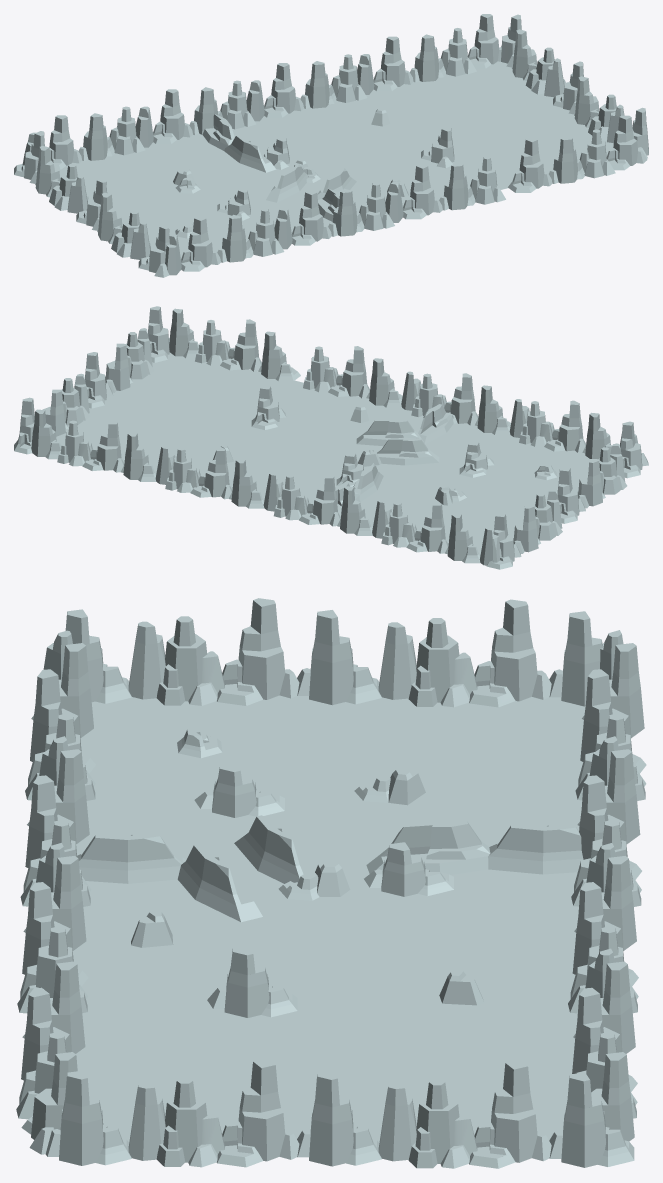
Rendered from Map_001_optimized.glb.
3 renders of one model, top to bottom at view 1: azimuth 30°, elevation 25°; view 2: azimuth 150°, elevation 25°; view 3: azimuth 270°, elevation 25°, orthographic. The views are drawn at different scales.
Parts seen in each view (by area): view 1: stone, Ground; view 2: stone, Ground; view 3: Ground, stone.
Boxes of the visible parts, left/top/right/bottom form: stone: left=14, top=14, right=648, bottom=277; Ground: left=59, top=61, right=613, bottom=259; stone: left=14, top=306, right=648, bottom=569; Ground: left=56, top=352, right=589, bottom=550; Ground: left=72, top=695, right=585, bottom=1156; stone: left=16, top=598, right=646, bottom=1168.
Size of the model in its own units: 678 by 53.39 by 367.
